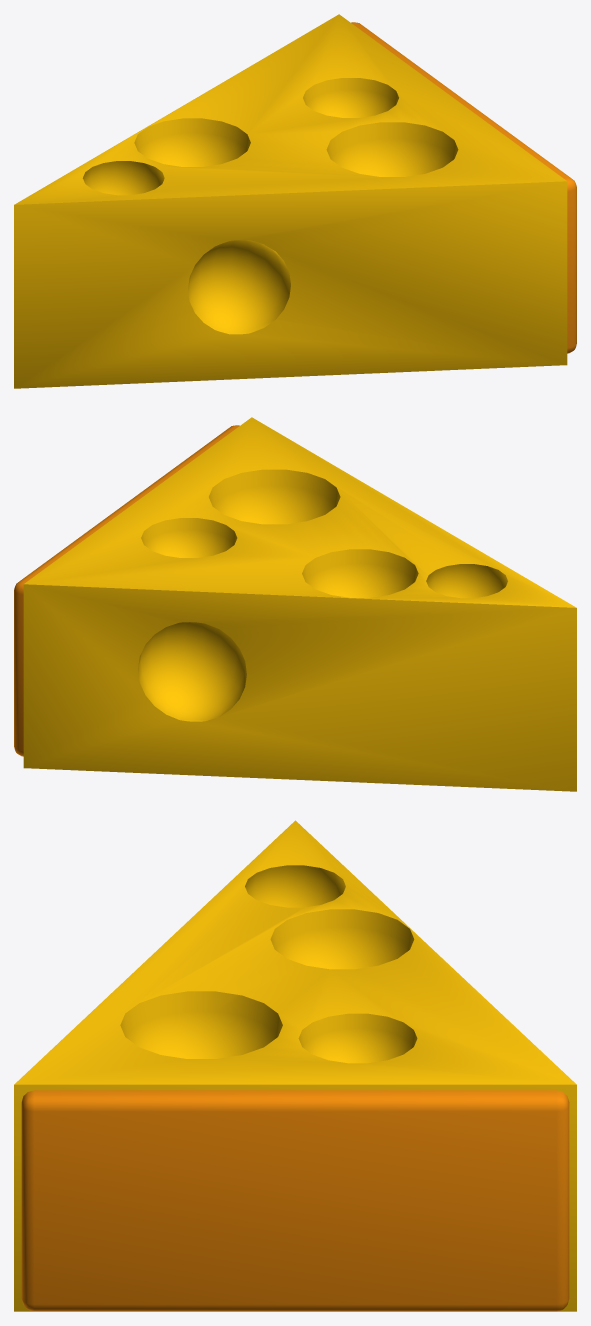
File: cheese.glb
3 views of the same model, one above another, from view 1: azimuth 30°, elevation 25°; view 2: azimuth 150°, elevation 25°; view 3: azimuth 270°, elevation 25° (orthographic). The views are drawn at different scales.
Visible parts, largest first — view 1: CheeseWedge; view 2: CheeseWedge; view 3: CheeseWedge.
Part boxes in pixels (x1,y1,x2,y2): CheeseWedge: (14,14,576,388); CheeseWedge: (14,417,576,791); CheeseWedge: (14,820,576,1311).
Size of the model in its own units: 0.415 by 0.16 by 0.36.
